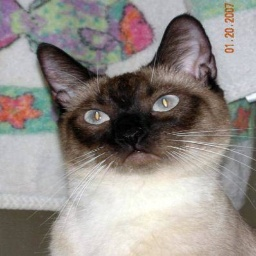cat: (34, 14, 256, 256)
